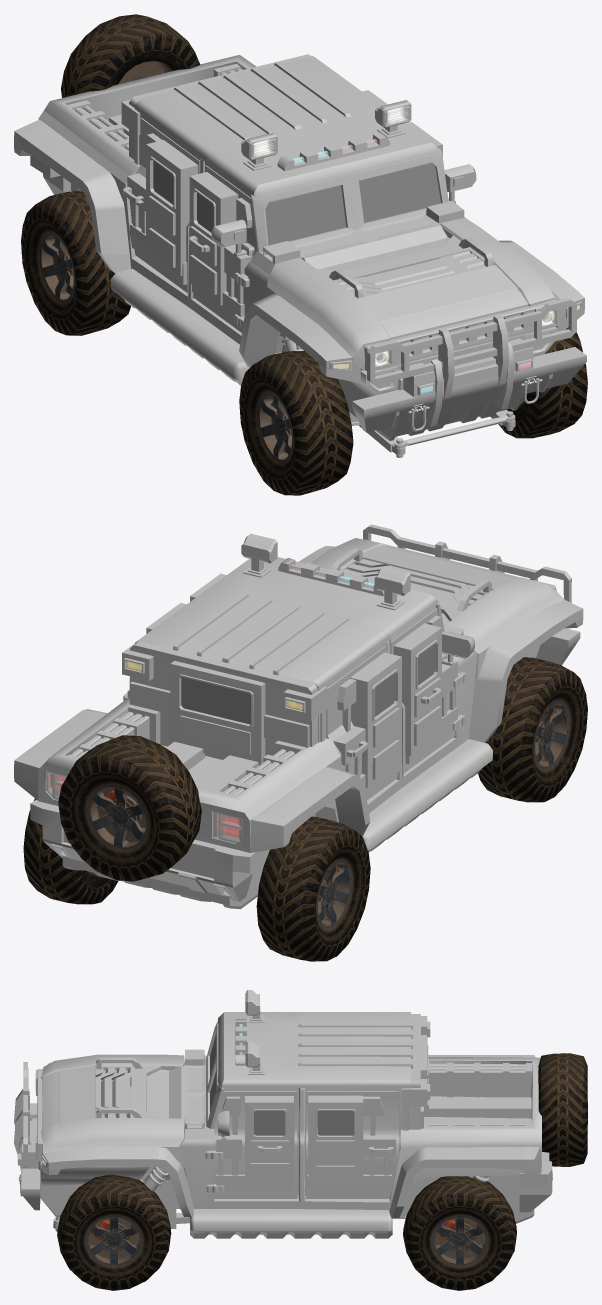
Rendered from Hummer_Police_APC.fbx.
3 views of the same model, one above another, from view 1: azimuth 30°, elevation 25°; view 2: azimuth 150°, elevation 25°; view 3: azimuth 270°, elevation 25° (orthographic). The views are drawn at different scales.
Parts seen in each view (by area): view 1: car_body, wheelFR, wheelRR, glass, wheel_spare, wheelFL, siren_light, lights; view 2: car_body, wheel_spare, wheelRR, wheelFR, wheelRL, glass, lights, siren_light; view 3: car_body, wheelFL, wheelRL, wheel_spare, glass, siren_light.
Boxes of the visible parts, x1,y1,x2,y2 form: car_body: [14, 54, 586, 457]; wheelFR: [239, 351, 353, 495]; wheelRR: [21, 191, 130, 335]; glass: [153, 161, 440, 245]; wheel_spare: [61, 14, 200, 97]; wheelFL: [498, 327, 587, 438]; siren_light: [277, 132, 389, 171]; lights: [251, 105, 580, 393]; car_body: [14, 524, 583, 909]; wheel_spare: [58, 735, 201, 881]; wheelRR: [256, 816, 370, 961]; wheelFR: [478, 657, 587, 802]; wheelRL: [23, 798, 118, 904]; glass: [181, 644, 434, 724]; lights: [46, 661, 302, 843]; siren_light: [278, 558, 384, 596]; car_body: [14, 990, 552, 1238]; wheelFL: [57, 1174, 171, 1290]; wheelRL: [403, 1176, 516, 1290]; wheel_spare: [538, 1053, 587, 1166]; glass: [210, 1034, 354, 1135]; siren_light: [235, 1019, 246, 1065].
Size of the model in its own units: 88.95 by 81.25 by 193.
